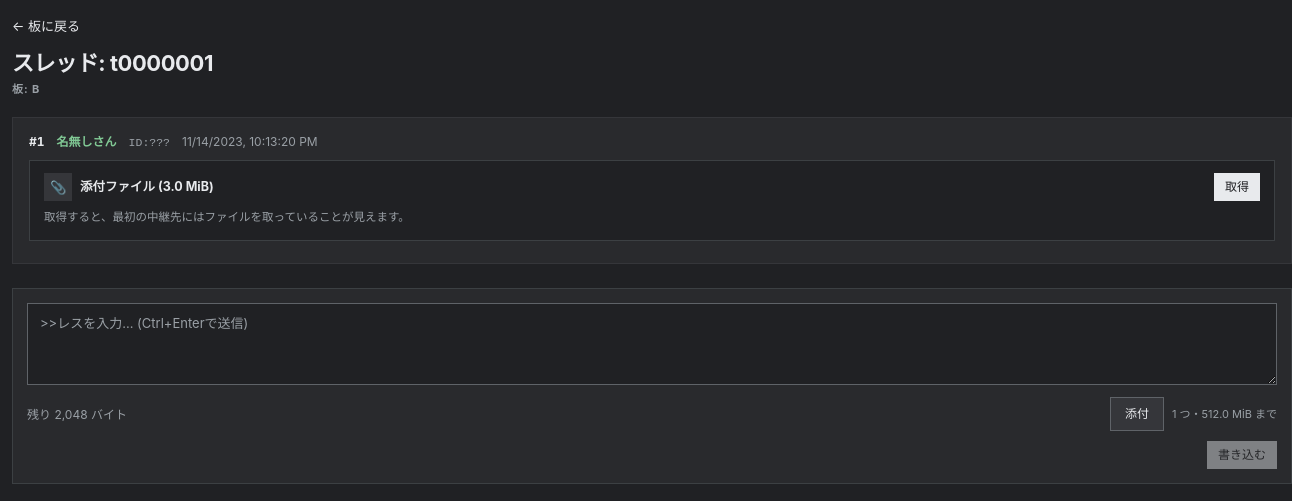
Scenario: 投稿の中の添付カード › 保存名は無害化される (パスの区切りを含む名前)
The width and height of the screenshot is (1292, 501).
Click the button with aria-label "添付ファイルを取得": (1237, 187) [1214,173,1260,201]
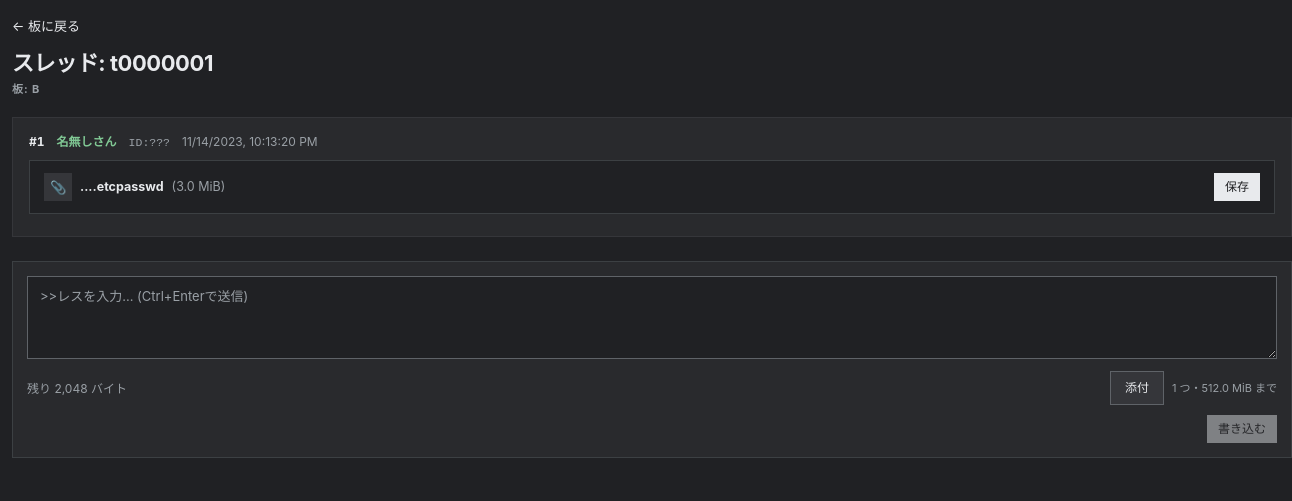
Result: the button with aria-label "を保存" is shown at [1214,173,1260,201]
